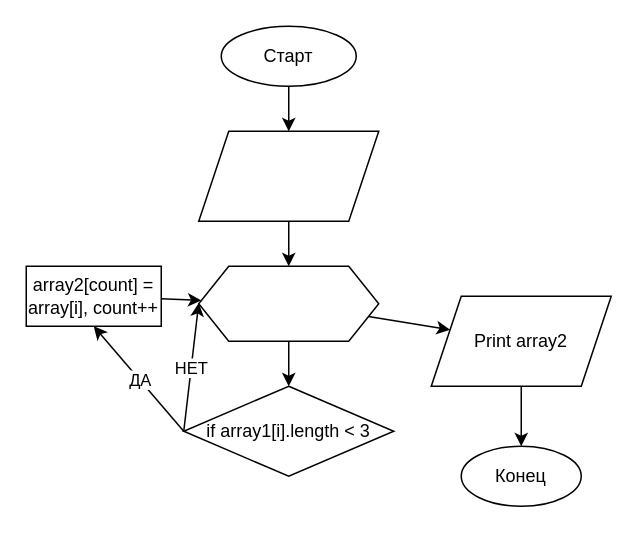
Image size: 638x533. Some labels were removed from this diagram. The shapes that lost their labels are listed below. From the top down, each one's box as (x1, y1, x2, y2) in pixels, then its label:
(197, 130, 379, 221): String Array 1 String Array 2 int count = 0
(197, 265, 379, 341): For (int = 0, i < array1.length, i++)
